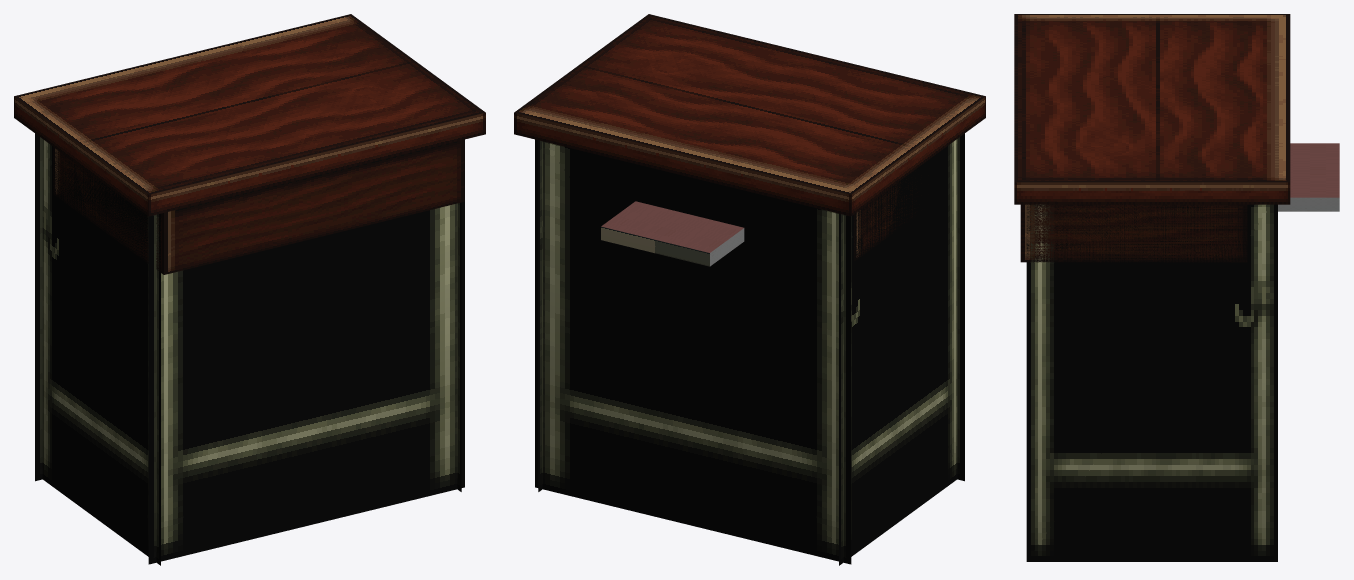
The model's file is prop_desk-7.glb.
3 views of the same model, side by side, from view 1: azimuth 30°, elevation 25°; view 2: azimuth 150°, elevation 25°; view 3: azimuth 270°, elevation 25° (orthographic). The views are drawn at different scales.
Visible parts, largest first — view 1: prop_desk-7; view 2: prop_desk-7; view 3: prop_desk-7.
Boxes of the visible parts, x1=… form: prop_desk-7: x1=14, y1=14, x2=485, y2=565; prop_desk-7: x1=514, y1=14, x2=985, y2=565; prop_desk-7: x1=1014, y1=14, x2=1339, y2=561.
Bounding box in the file's own units: 0.6435 × 0.693 × 0.5251.
Materials: 5 (5 with a texture image).
